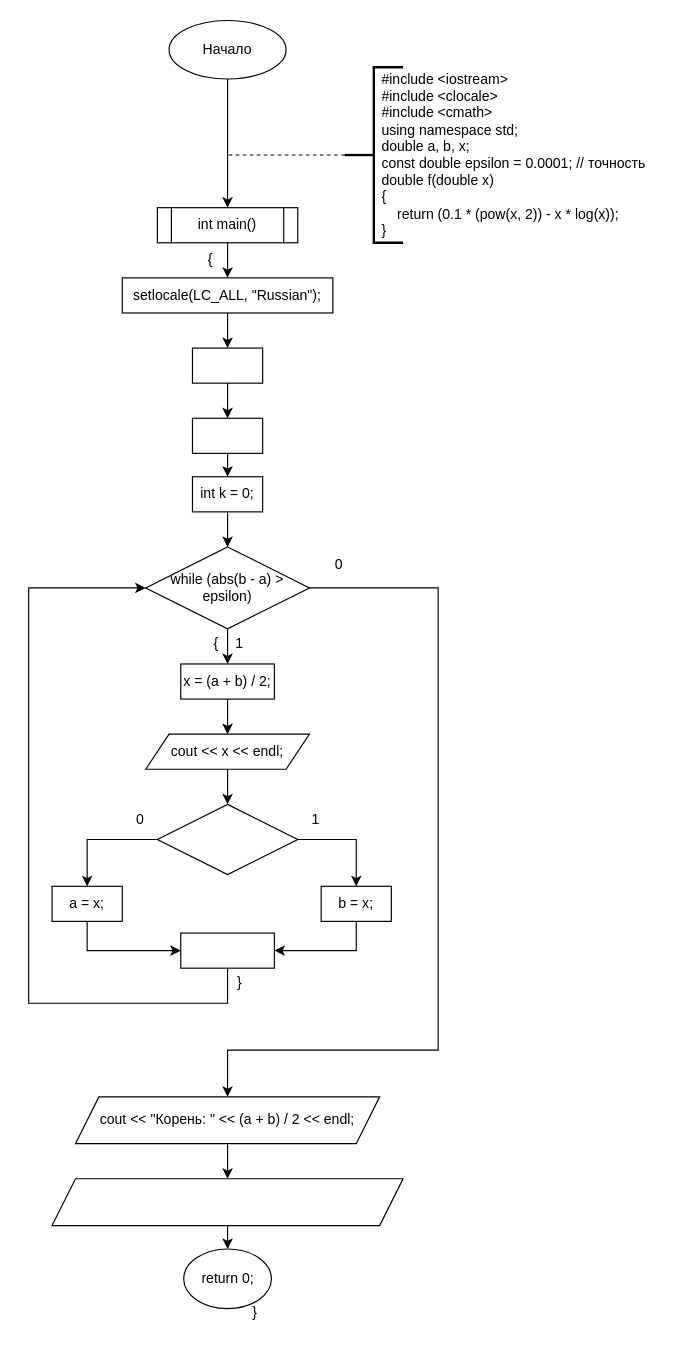
Image size: 693x1351. Some labels were removed from this diagram. The centre of each missing label's shape, as x and y in pixels:
a = 1;: point 227,365
b = 2;: point 227,435
cout << "Количество шагов: " << k + 1 << endl;: point 227,1202
if (f(a) * f(x) < 0): point 227,839
k = k + 1;: point 227,950
